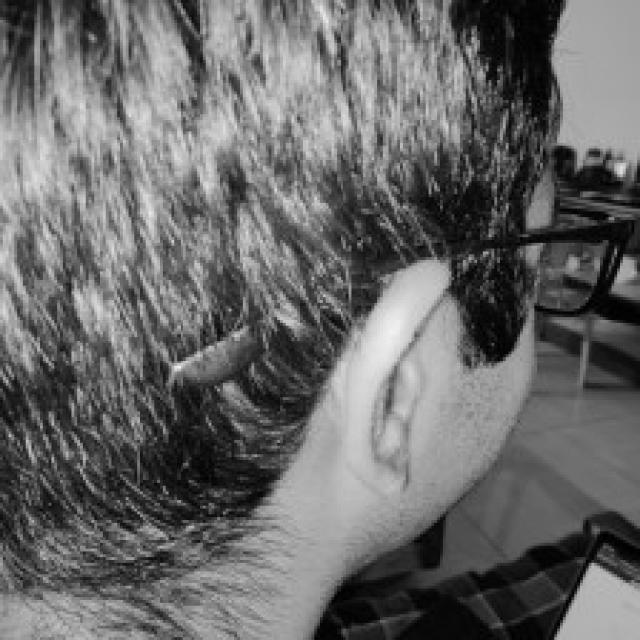ear: (346, 260, 446, 491)
